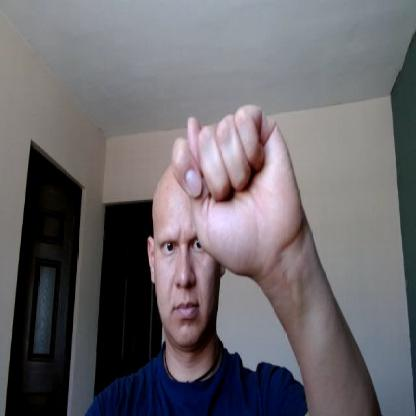T: (171, 103, 301, 275)
